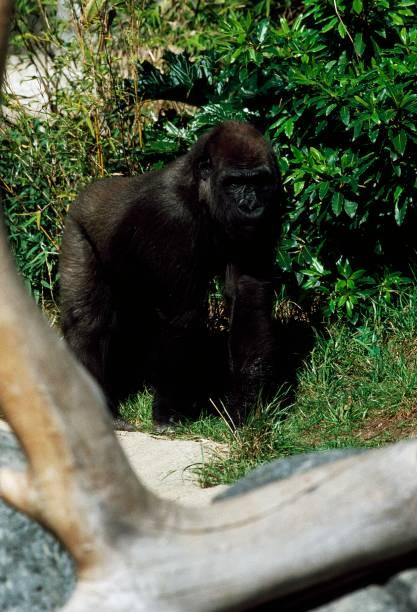gorille_Autres: (50, 100, 331, 409)
